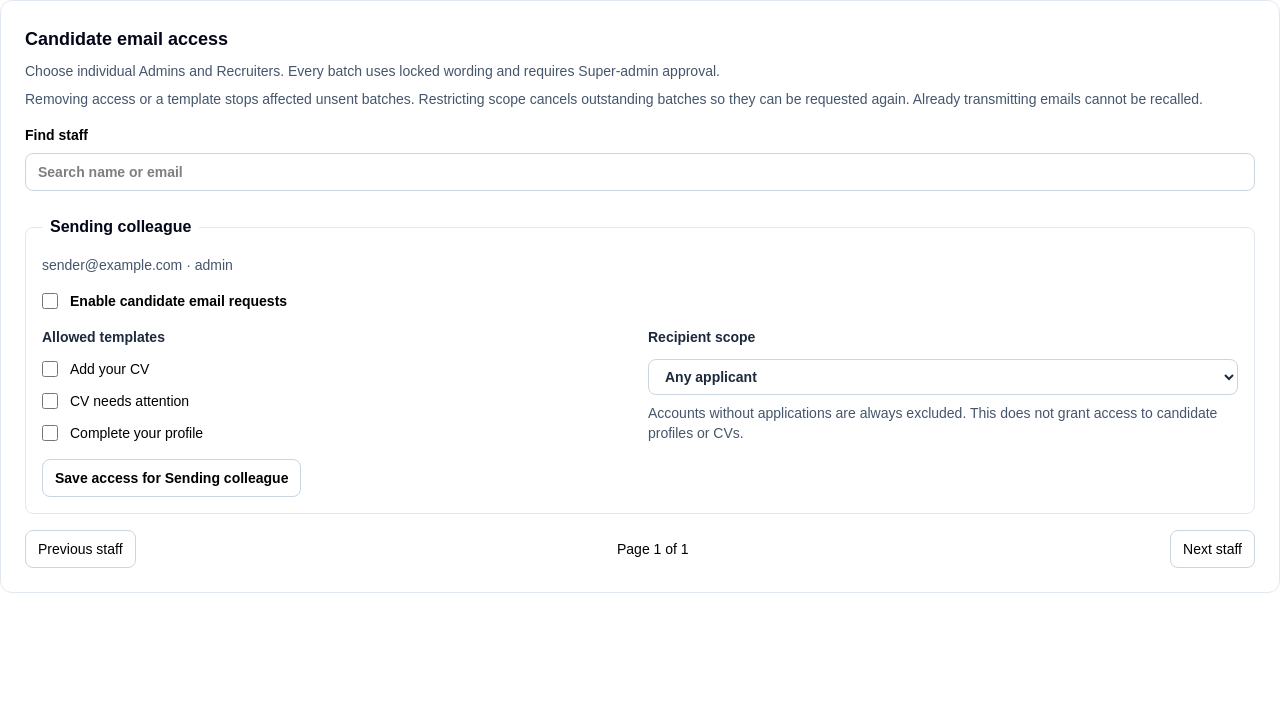
Test: Individual candidate email permissions › shows a stale-revision error without losing the proposed grant
Click the checkbox labelled "Enable candidate email requests" at point(50, 301), box [42,293,58,309]
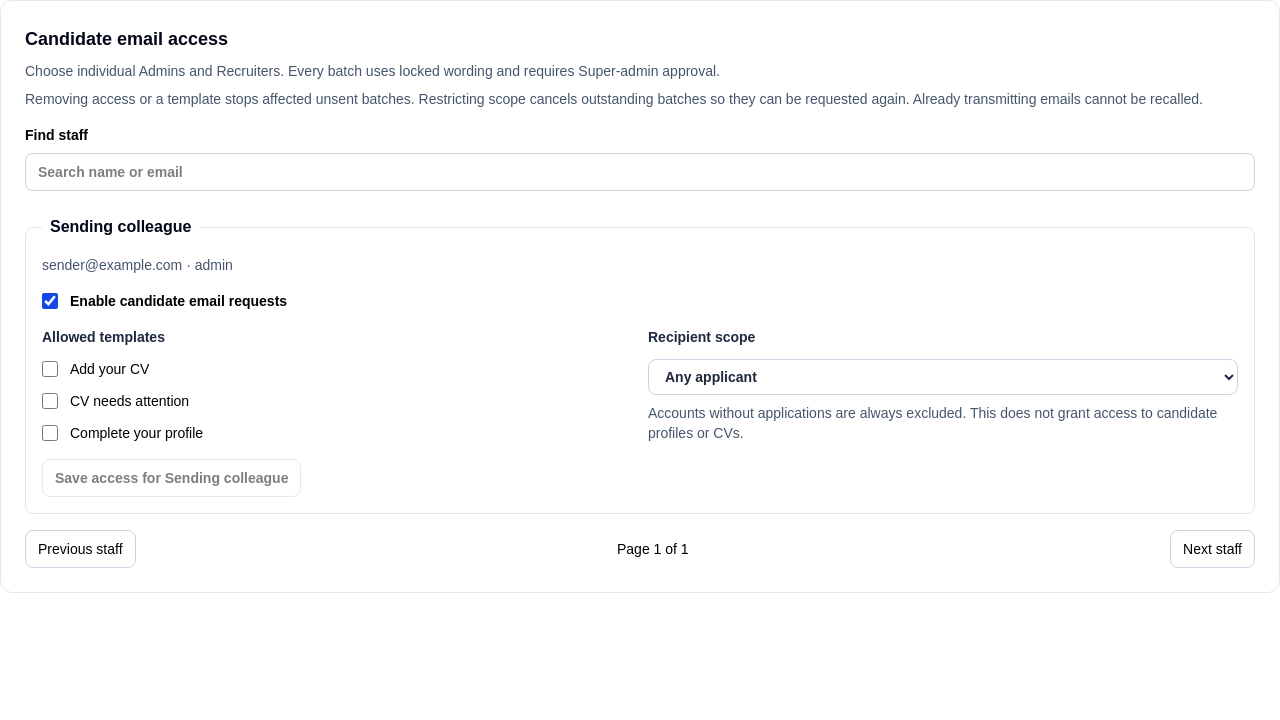
Click the checkbox labelled "Add your CV" at point(50, 369), box [42,361,58,377]
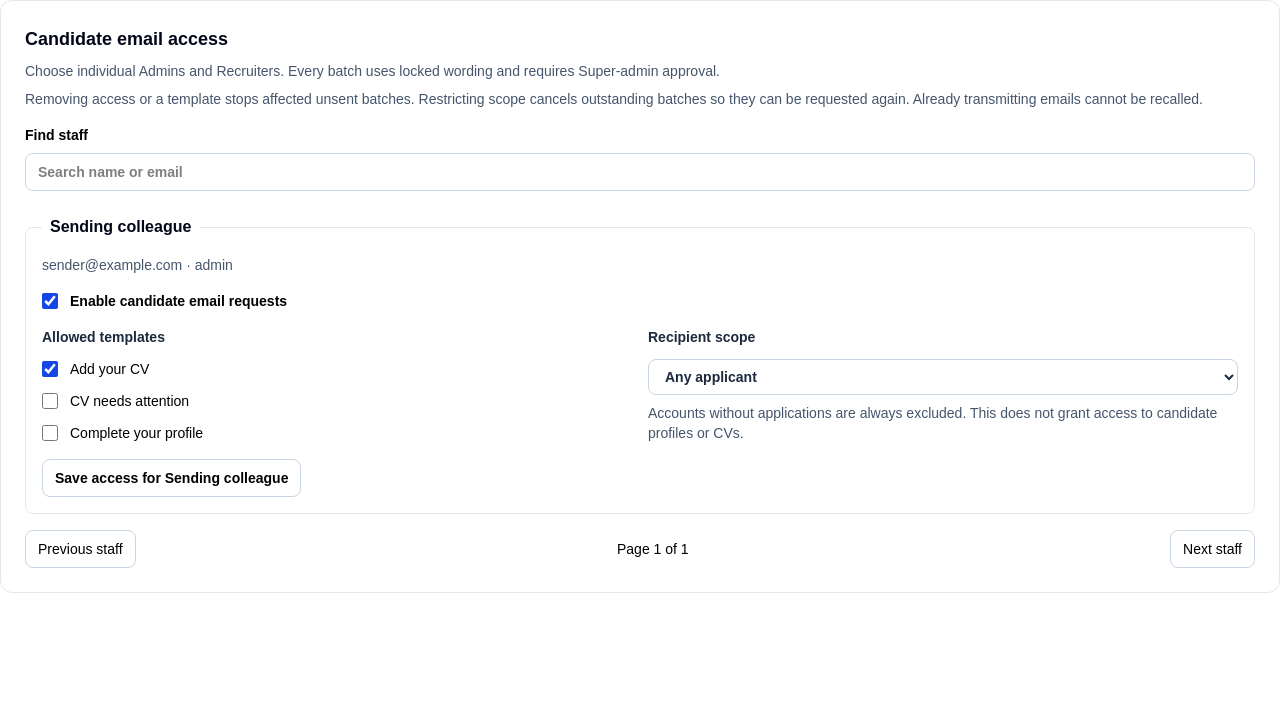
Click the button "Save access for Sending colleague" at point(172, 478), box [42,459,301,497]
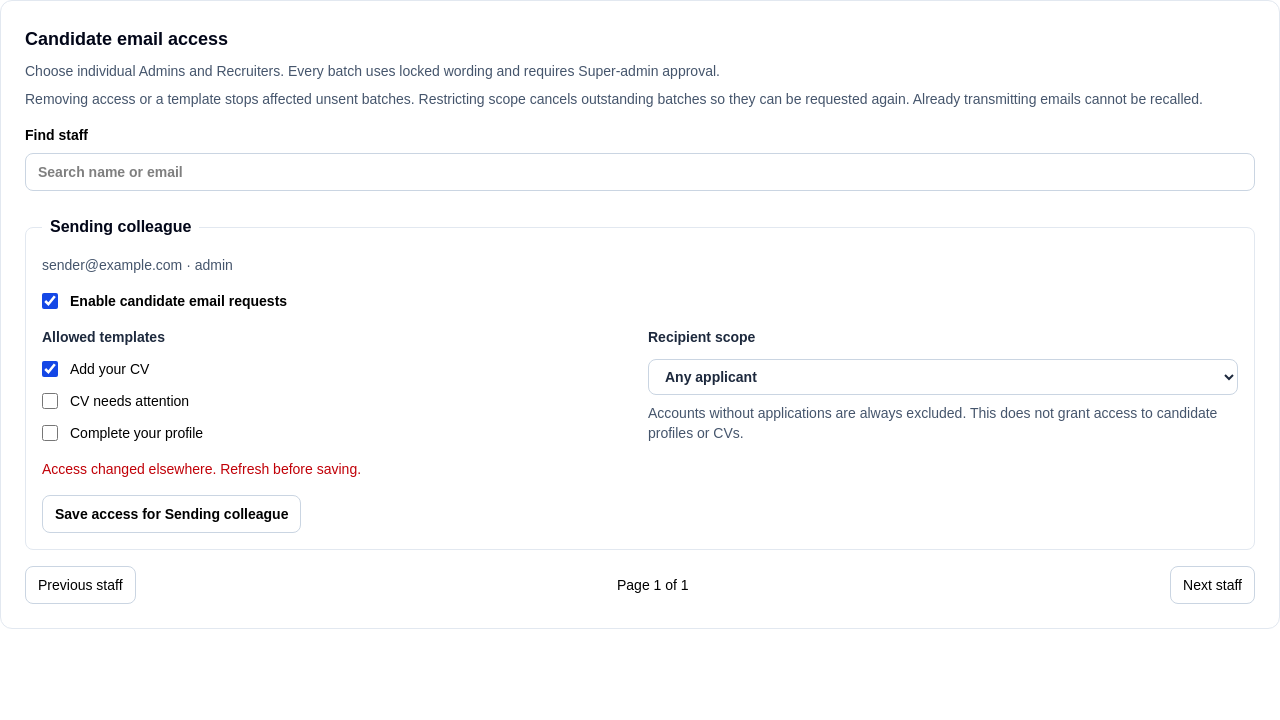
expect the checkbox labelled "Add your CV" is checked: met, box [42,361,58,377]
expect the message shows "Access changed elsewhere": met, box [42,461,361,477]
